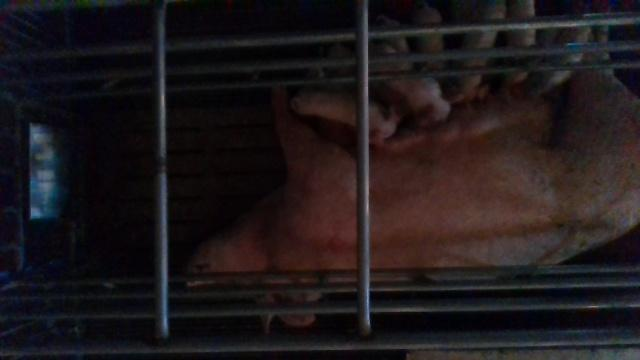piglet: (334, 42, 458, 123), (290, 90, 401, 147), (451, 0, 507, 103), (532, 28, 593, 92), (498, 0, 535, 89), (414, 2, 448, 78)
sow-sleep-lactate: (187, 0, 640, 334)
